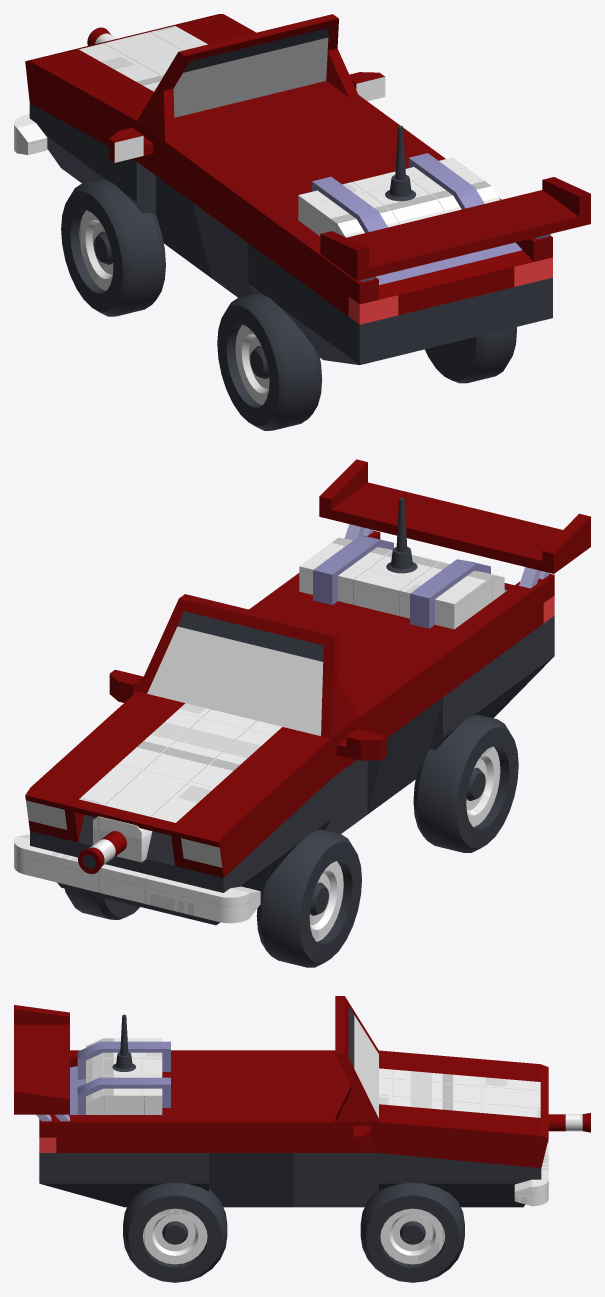
The model's file is Car.glb.
The picture shows the model from 3 angles, top to bottom: view 1: azimuth 30°, elevation 25°; view 2: azimuth 150°, elevation 25°; view 3: azimuth 270°, elevation 25°; orthographic projection. The views are drawn at different scales.
Visible parts, largest first — view 1: body_sports, body_backFins, wheel_standard (×3), body_frontSports, body_topWindshield, spoiler_fins, detail_luggage, detail_mirror (×2), bumper, detail_antenna; view 2: body_frontSports, wheel_standard (×3), body_topWindshield, body_backFins, body_sports, spoiler_fins, detail_luggage, bumper, tank_turretBarrelLarge, detail_mirror (×2), detail_antenna; view 3: body_sports, body_frontSports, wheel_standard (×2), body_backFins, detail_luggage, spoiler_fins, body_topWindshield, bumper, tank_turretBarrelLarge, detail_antenna, detail_mirror.
Part boxes in pixels (x1,y1,x2,y2): body_sports: (136,81,440,297); body_backFins: (248,155,552,365); wheel_standard (×3): (61,179,516,430); body_frontSports: (25,14,255,215); body_topWindshield: (137,14,358,141); spoiler_fins: (320,177,590,281); detail_luggage: (298,153,499,237); detail_mirror (×2): (109,72,385,162); bumper: (14,114,47,154); detail_antenna: (385,125,416,201); body_frontSports: (25,691,330,925); wheel_standard (×3): (64,715,518,967); body_topWindshield: (137,594,359,738); body_backFins: (249,530,554,749); body_sports: (250,609,442,833); spoiler_fins: (319,459,590,588); detail_luggage: (299,535,504,629); bumper: (14,834,260,923); tank_turretBarrelLarge: (78,816,152,873); detail_mirror (×2): (109,669,386,760); detail_antenna: (386,497,417,573); body_sports: (209,1050,378,1207); body_frontSports: (379,1050,548,1207); wheel_standard (×2): (123,1182,464,1282); body_backFins: (39,1050,208,1207); detail_luggage: (77,1038,170,1114); spoiler_fins: (14,1005,69,1121); body_topWindshield: (335,996,378,1122); bumper: (514,1143,548,1206); tank_turretBarrelLarge: (547,1113,590,1143); detail_antenna: (112,1014,135,1071); detail_mirror: (353,1125,370,1151).
Size of the model in its own units: 1.4 by 1.47 by 3.4.
38 materials, 12 textured.
